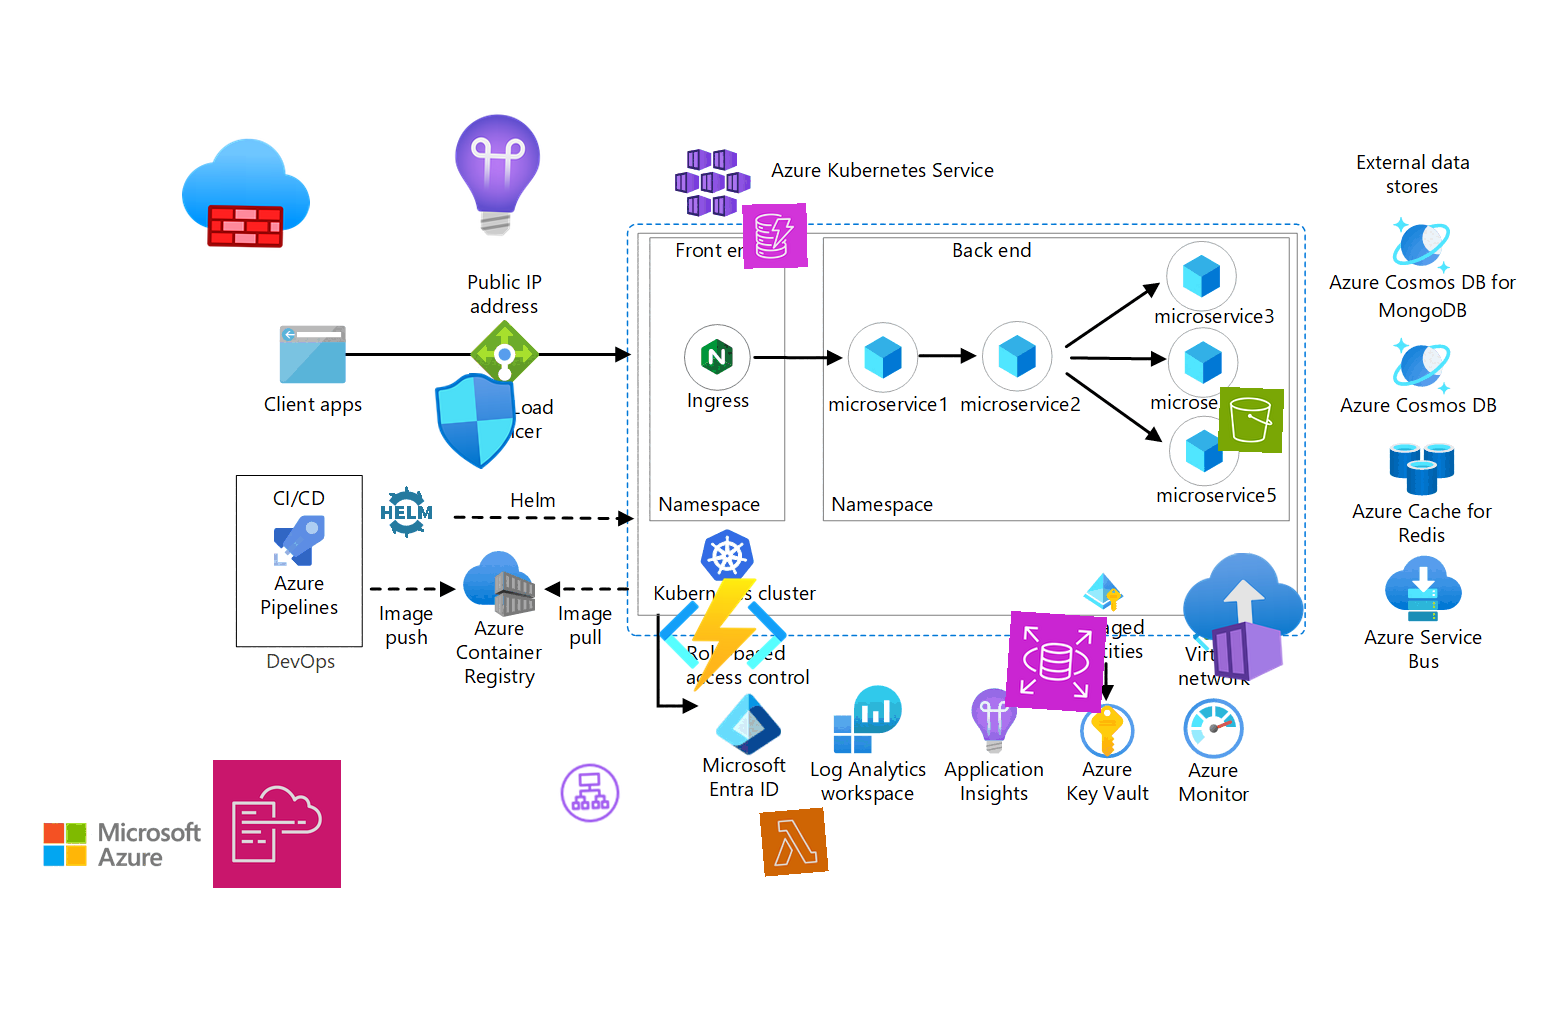aws_amazon_dynamodb: (742, 203, 808, 269)
aws_amazon_rds: (1004, 610, 1108, 714)
aws_amazon_simple_storage_service: (1217, 386, 1286, 454)
aws_cloudformation: (212, 759, 343, 889)
aws_elastic_load_balancing_application_load_balancer: (556, 759, 624, 828)
aws_lambda: (758, 807, 830, 877)
azure_application_insights: (430, 108, 564, 242)
azure_container_instances: (1176, 548, 1313, 685)
azure_firewalls: (180, 127, 312, 259)
azure_function_apps: (658, 570, 788, 700)
azure_network_security_groups: (425, 369, 529, 473)
